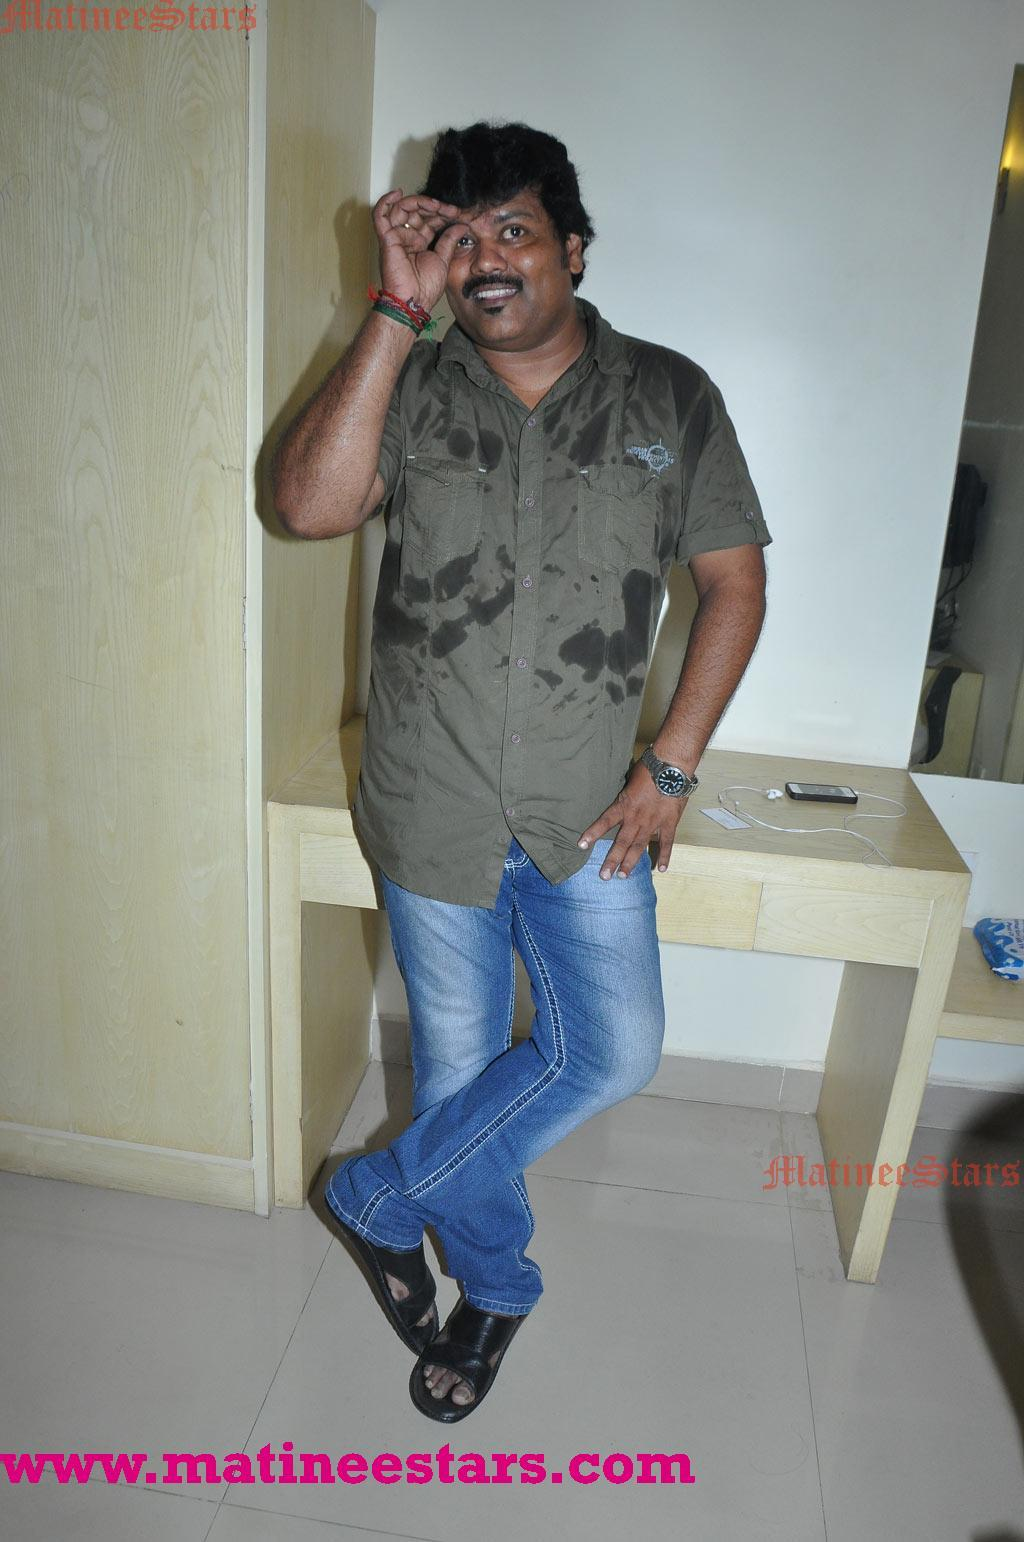face: (446, 172, 563, 332)
